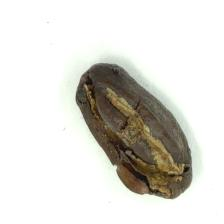NG: (123, 83, 192, 198), (76, 62, 125, 172)
